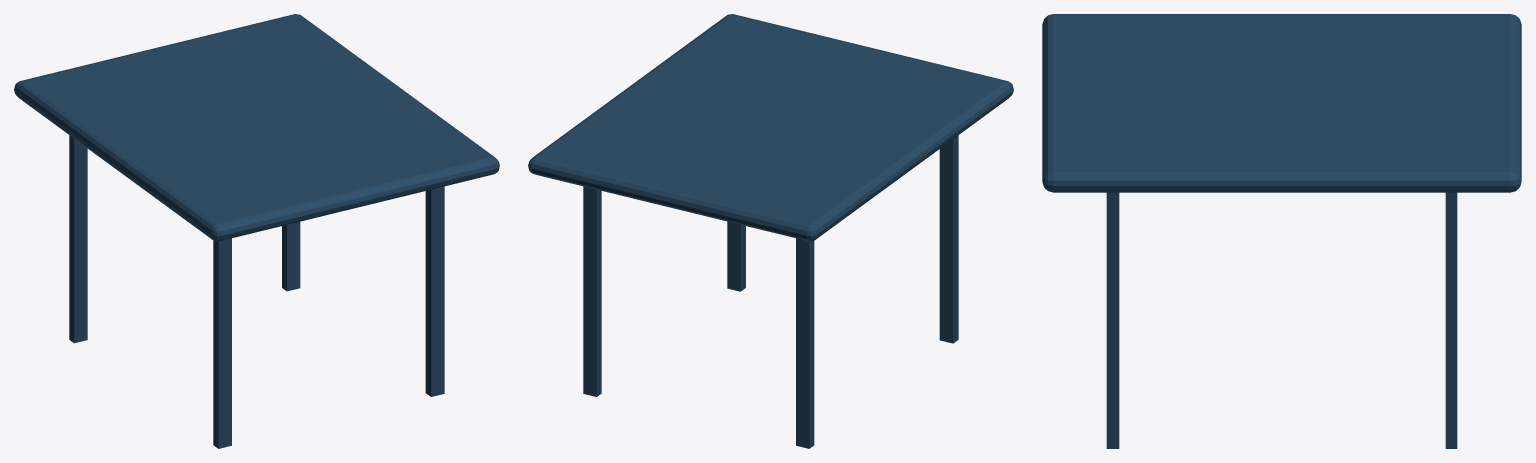
The picture shows the model from 3 angles, left to right: view 1: azimuth 30°, elevation 25°; view 2: azimuth 150°, elevation 25°; view 3: azimuth 270°, elevation 25°; orthographic projection. The views are drawn at different scales.
Parts seen in each view (by area): view 1: Table_model_01; view 2: Table_model_01; view 3: Table_model_01.
Boxes of the visible parts, box(x1,y1,x2,y2) form: Table_model_01: box(14, 14, 499, 448); Table_model_01: box(528, 14, 1013, 448); Table_model_01: box(1042, 14, 1521, 448).
Bounding box in the file's own units: 0.4919 × 0.4033 × 0.6024.
